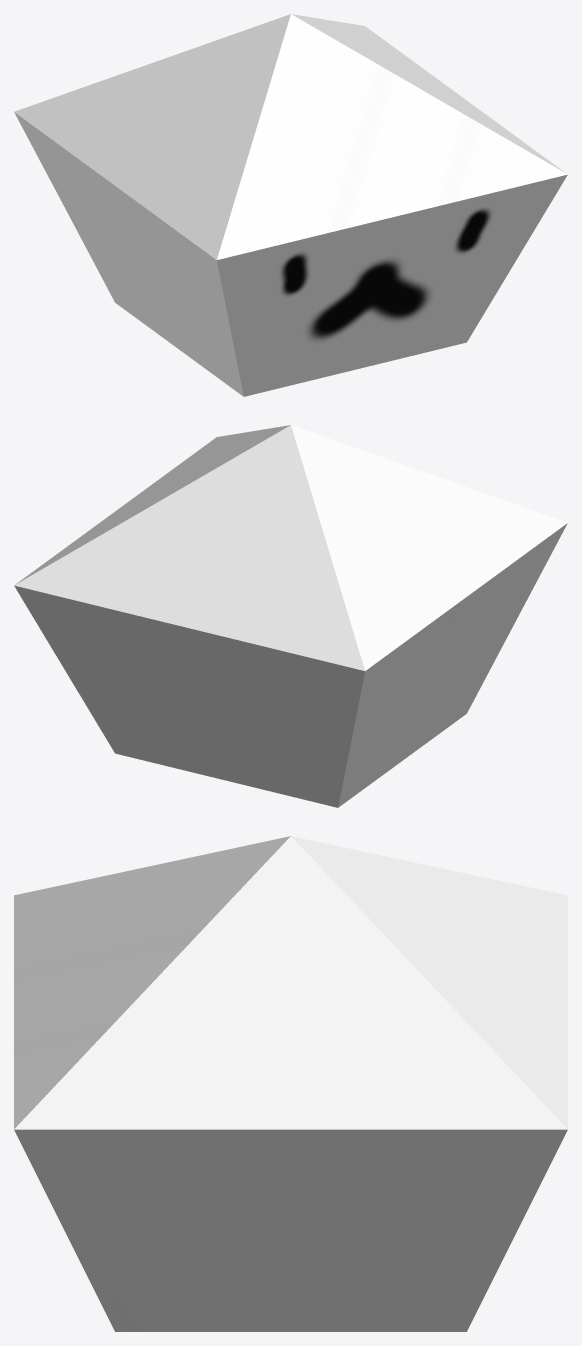
File: head.obj
The picture shows the model from 3 angles, top to bottom: view 1: azimuth 30°, elevation 25°; view 2: azimuth 150°, elevation 25°; view 3: azimuth 270°, elevation 25°; orthographic projection. The views are drawn at different scales.
Visible parts, largest first — view 1: Head; view 2: Head; view 3: Head.
Part boxes in pixels (left/top/right/bottom): Head: left=14, top=14, right=567, bottom=396; Head: left=14, top=425, right=567, bottom=807; Head: left=14, top=836, right=567, bottom=1331.
Bounding box in the file's own units: 1.68 × 1.41 × 1.68.
1 material, 1 textured.
